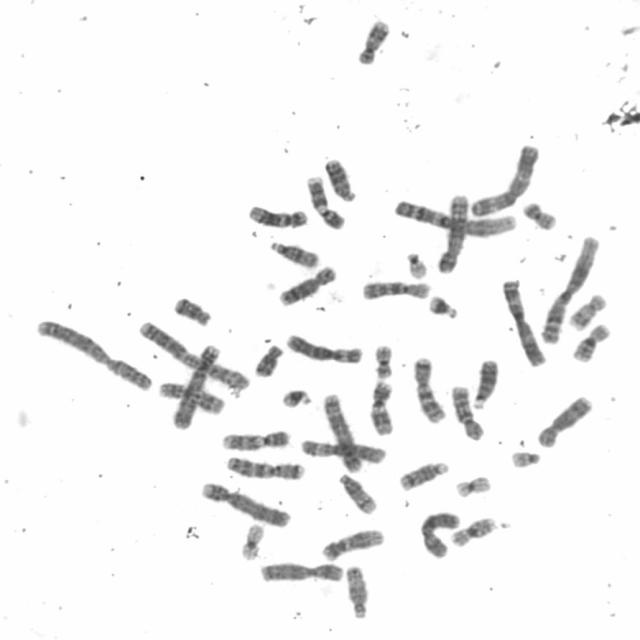A1: (536, 229, 603, 346), (390, 193, 519, 238)
A2: (29, 312, 155, 392), (134, 314, 253, 392)
A3: (464, 138, 543, 218), (497, 274, 548, 368)
B4: (195, 476, 292, 529), (167, 338, 222, 431)
B5: (318, 388, 364, 474), (432, 188, 472, 274)
C10: (445, 379, 487, 442), (357, 275, 433, 302)
C11: (153, 376, 226, 416), (364, 376, 397, 436)
C12: (317, 523, 386, 562), (243, 199, 310, 229)
C6: (280, 328, 366, 365), (295, 433, 388, 465)
C7: (408, 352, 448, 424), (221, 451, 307, 481)
C8: (532, 390, 596, 449), (273, 260, 338, 308)
C9: (301, 170, 347, 230), (216, 424, 292, 452)
D13: (467, 353, 501, 410), (320, 152, 358, 202)
D14: (334, 468, 379, 516), (394, 456, 451, 492)
D15: (264, 235, 322, 270), (340, 561, 370, 620)
E16: (566, 318, 612, 364), (446, 511, 498, 549)
E17: (352, 14, 391, 66), (564, 288, 609, 331)
E18: (168, 291, 214, 327), (249, 339, 285, 379)
F19: (235, 518, 266, 561), (449, 470, 494, 499)
F20: (517, 196, 560, 231), (369, 340, 395, 380)
G21: (423, 289, 461, 320), (276, 382, 314, 410)
G22: (402, 246, 429, 280), (505, 446, 543, 469)
X: (254, 556, 346, 584), (415, 506, 461, 560)
